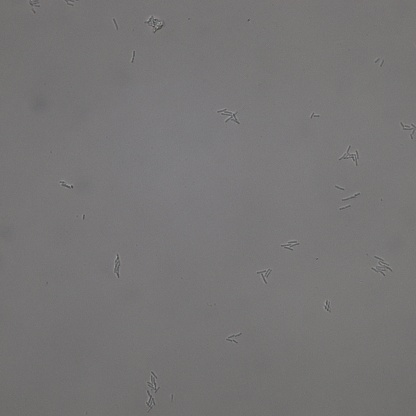R(colony): (369, 256, 393, 278), (339, 145, 360, 166), (218, 106, 241, 124), (399, 120, 416, 140), (256, 267, 273, 285), (147, 371, 160, 392), (143, 394, 157, 413), (279, 240, 300, 251)
